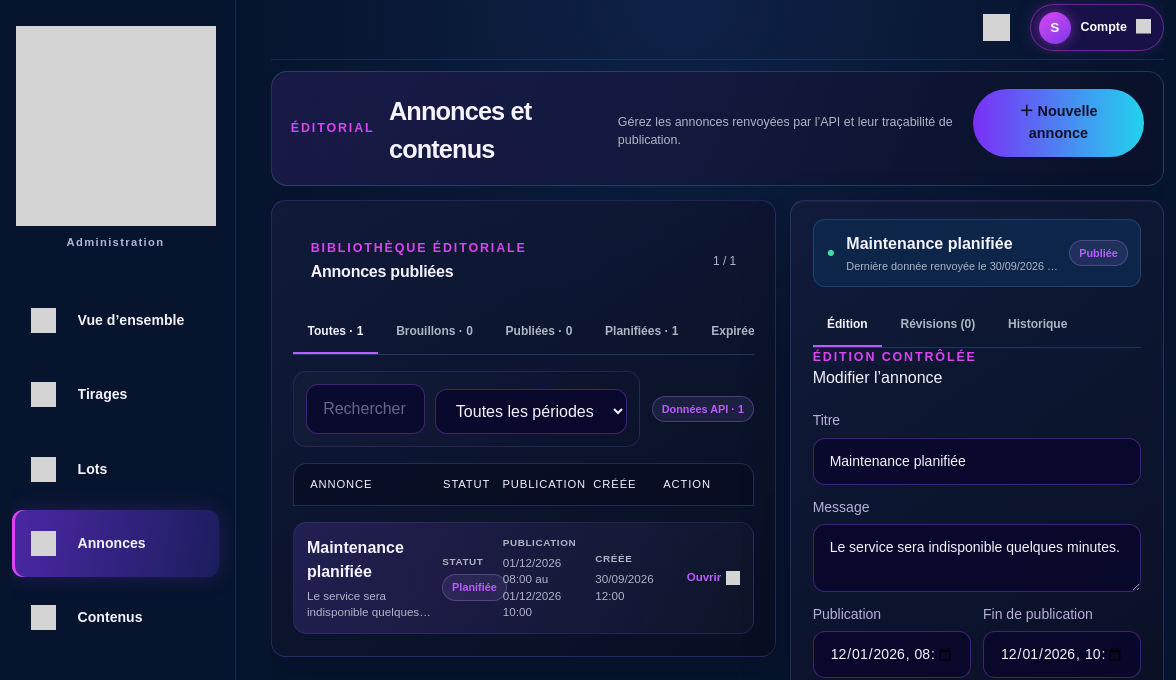
Test: affiche l’état vide du filtre des annonces expirées
The image size is (1176, 680).
Click the tab "Expirées · 0": x=745, y=332 [697, 310, 793, 354]
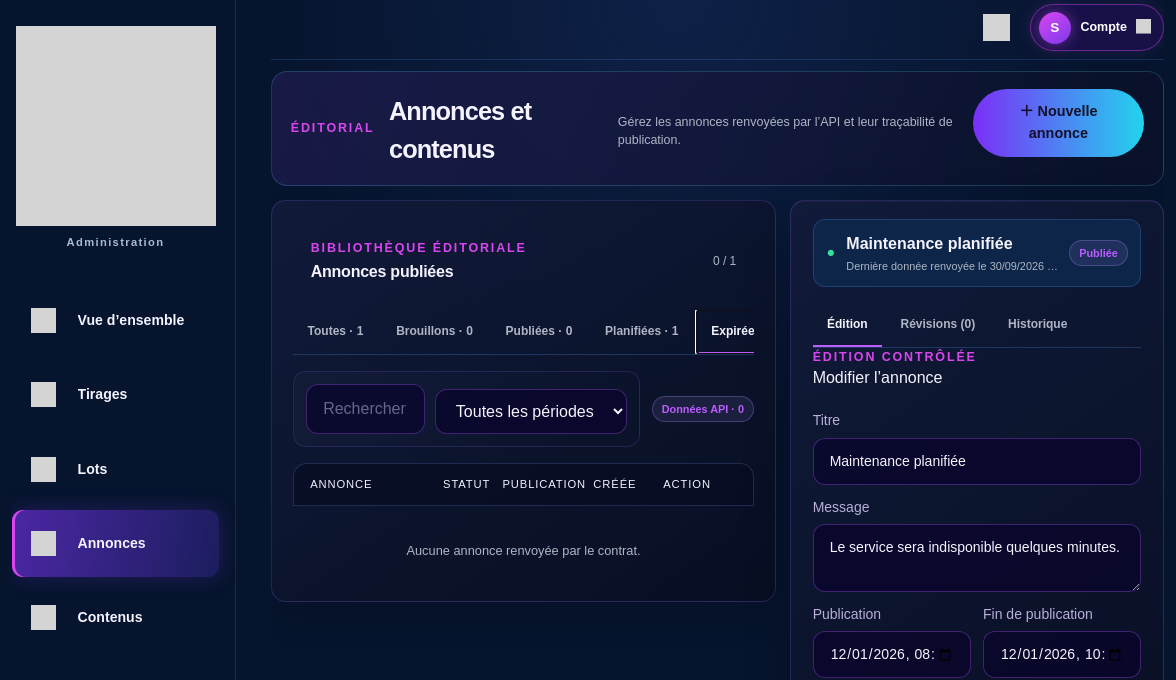
Result: the text "Aucune annonce renvoyée par le contrat." is shown at [406, 543, 641, 558]
